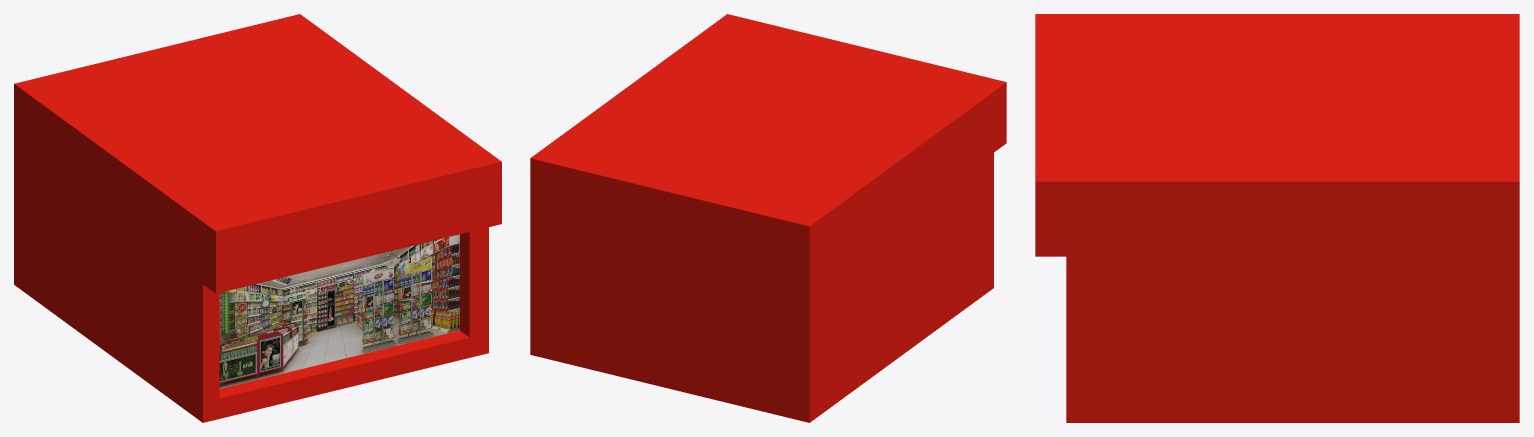
The model's file is h_mart.fbx.
3 views of the same model, side by side, from view 1: azimuth 30°, elevation 25°; view 2: azimuth 150°, elevation 25°; view 3: azimuth 270°, elevation 25° (orthographic). The views are drawn at different scales.
Visible parts, largest first — view 1: Cube; view 2: Cube; view 3: Cube.
Boxes of the visible parts, x1,y1,x2,y2 form: Cube: (14,14,501,422); Cube: (530,14,1006,422); Cube: (1035,14,1519,422).
Bounding box in the file's own units: 1254 × 842 × 1532.
Materials: 2 (2 with a texture image).
